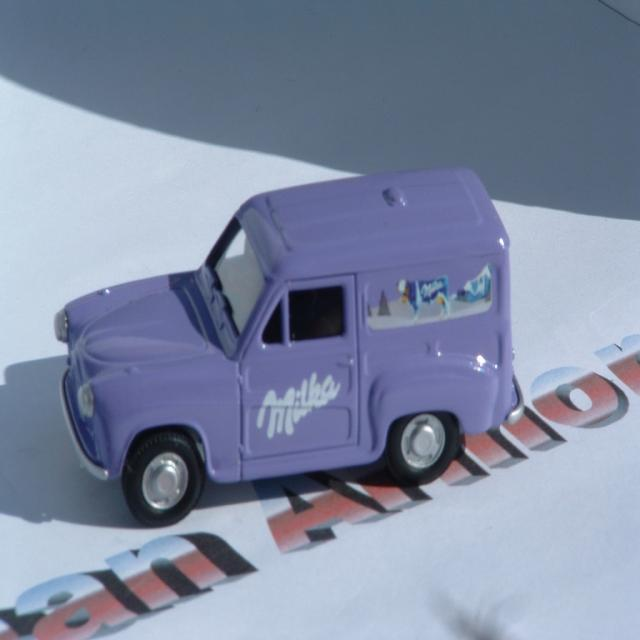milka: (256, 368, 346, 451)
